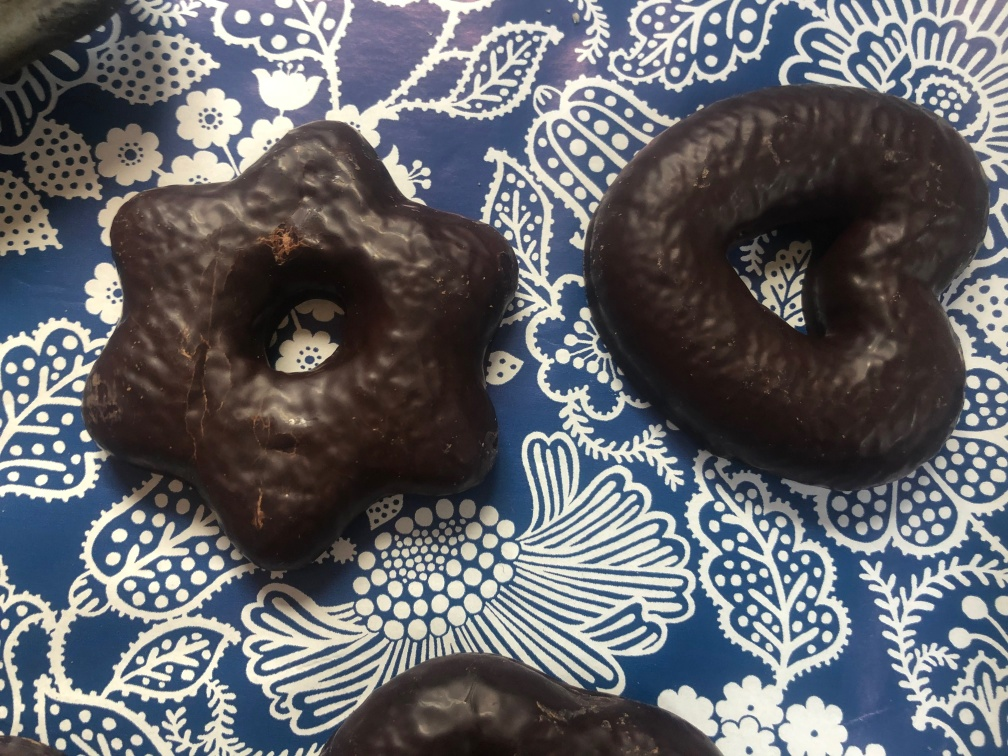heart: (580, 81, 989, 490)
star: (85, 119, 511, 564)
